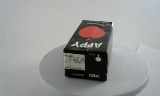appy: (58, 20, 107, 82)
